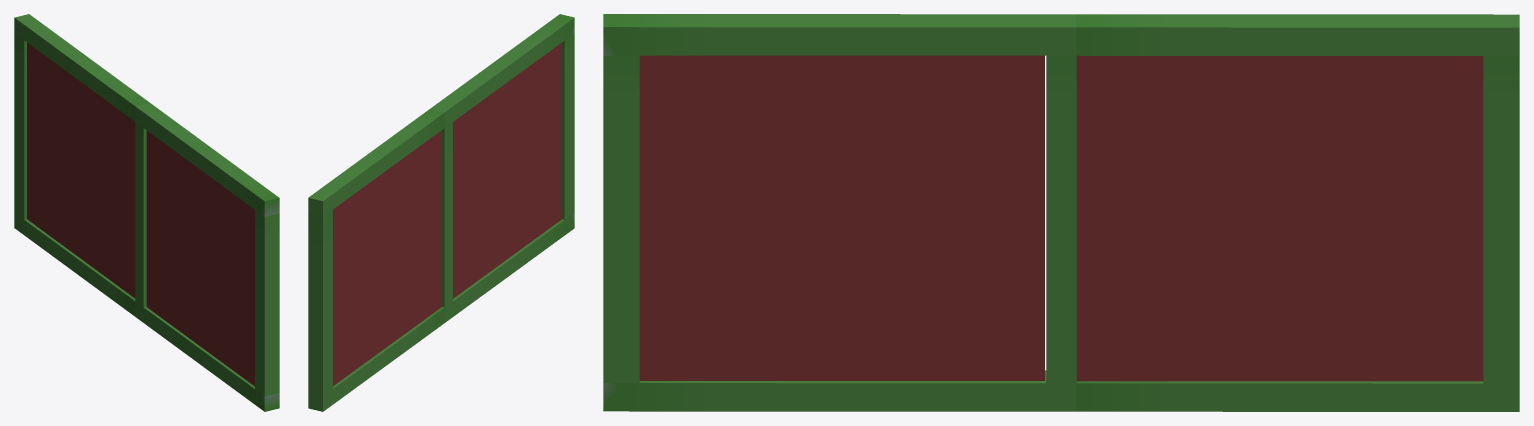
The model's file is Livingroom2_Window.fbx.
3 views of the same model, side by side, from view 1: azimuth 30°, elevation 25°; view 2: azimuth 150°, elevation 25°; view 3: azimuth 270°, elevation 25° (orthographic). The views are drawn at different scales.
Visible parts, largest first — view 1: Livingroom2_Window; view 2: Livingroom2_Window; view 3: Livingroom2_Window.
Boxes of the visible parts, bbox=[...] form: Livingroom2_Window: bbox=[14, 14, 279, 411]; Livingroom2_Window: bbox=[308, 14, 574, 411]; Livingroom2_Window: bbox=[603, 14, 1519, 411].
Size of the model in its own units: 12.43 by 163 by 352.
